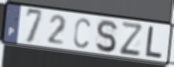2: (46, 14, 68, 47)
7: (25, 6, 43, 45)
C: (73, 17, 92, 50)
L: (144, 25, 164, 60)
S: (95, 18, 118, 54)
Z: (119, 20, 143, 56)
